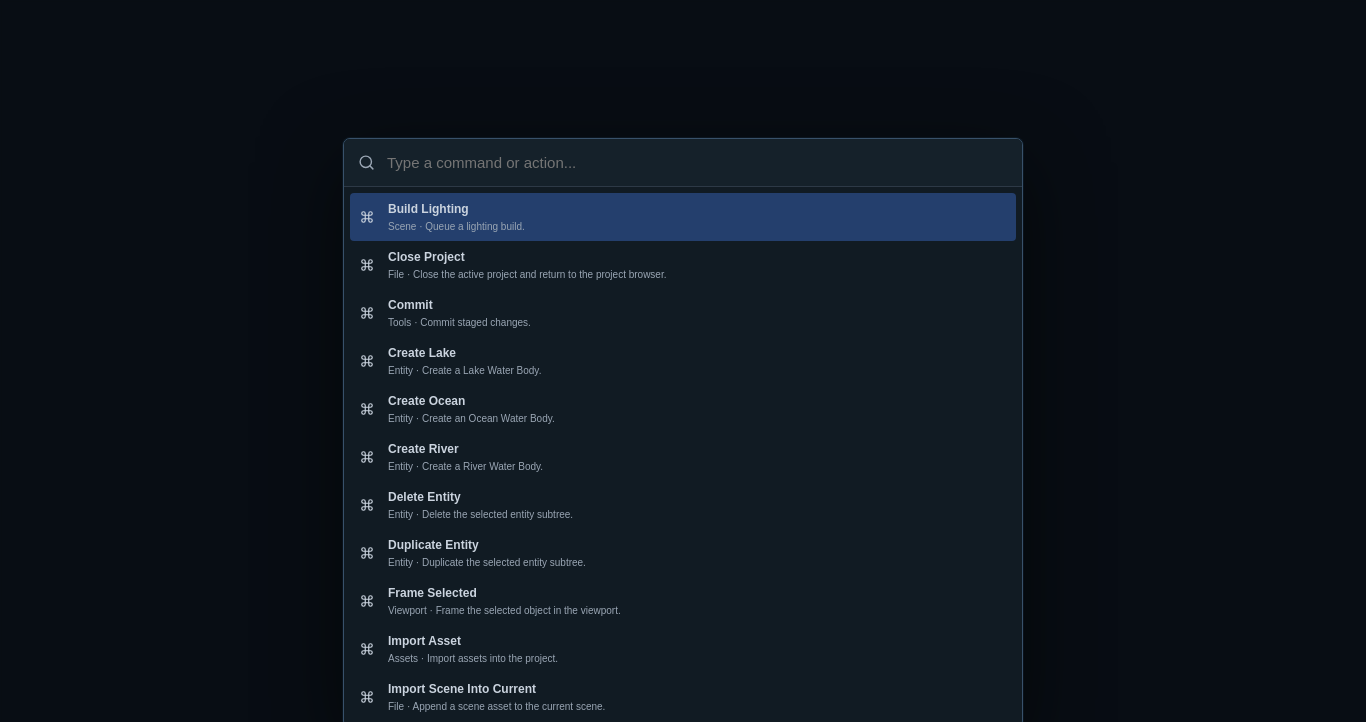
Test: CommandPalette › shows disabled contextual commands without executing them
Type "redo" into the field named "Search commands" at (696, 163), box [385, 152, 1008, 174]
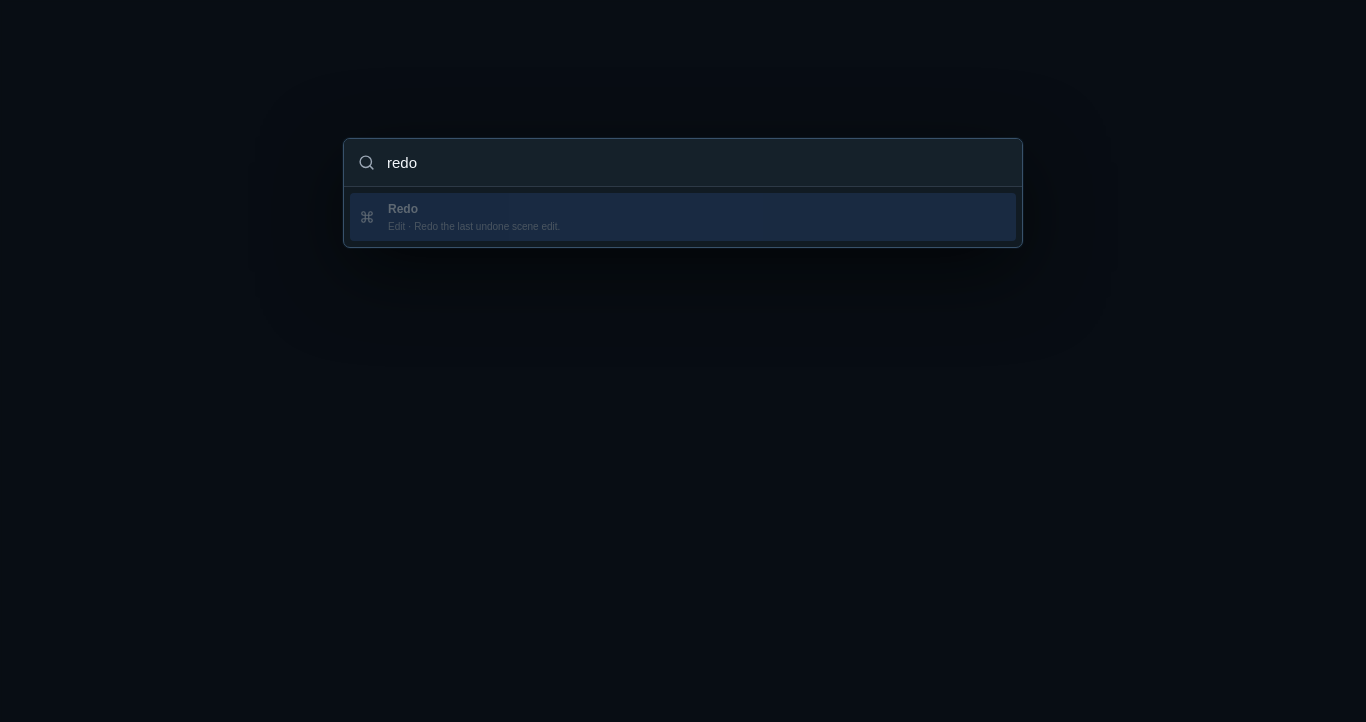
Now the option "Redo Edit · Redo the last undone scene edit." is disabled, box [350, 193, 1016, 241]
